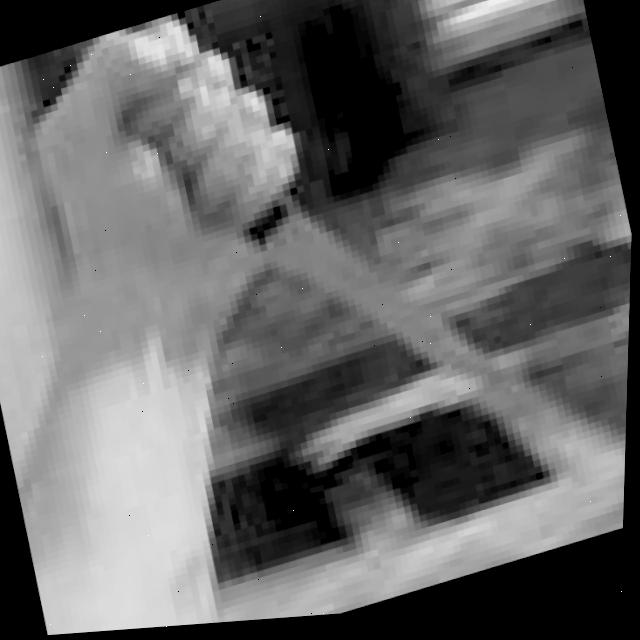knife: (261, 146, 569, 505)
